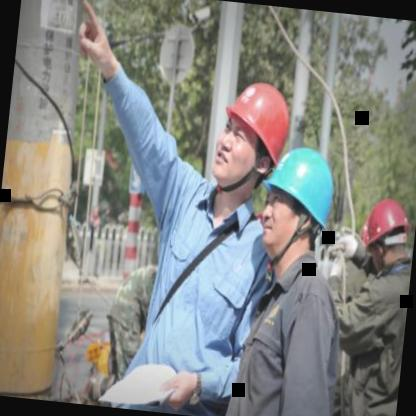helmet: (250, 134, 344, 272), (202, 72, 296, 206), (356, 190, 414, 280)
